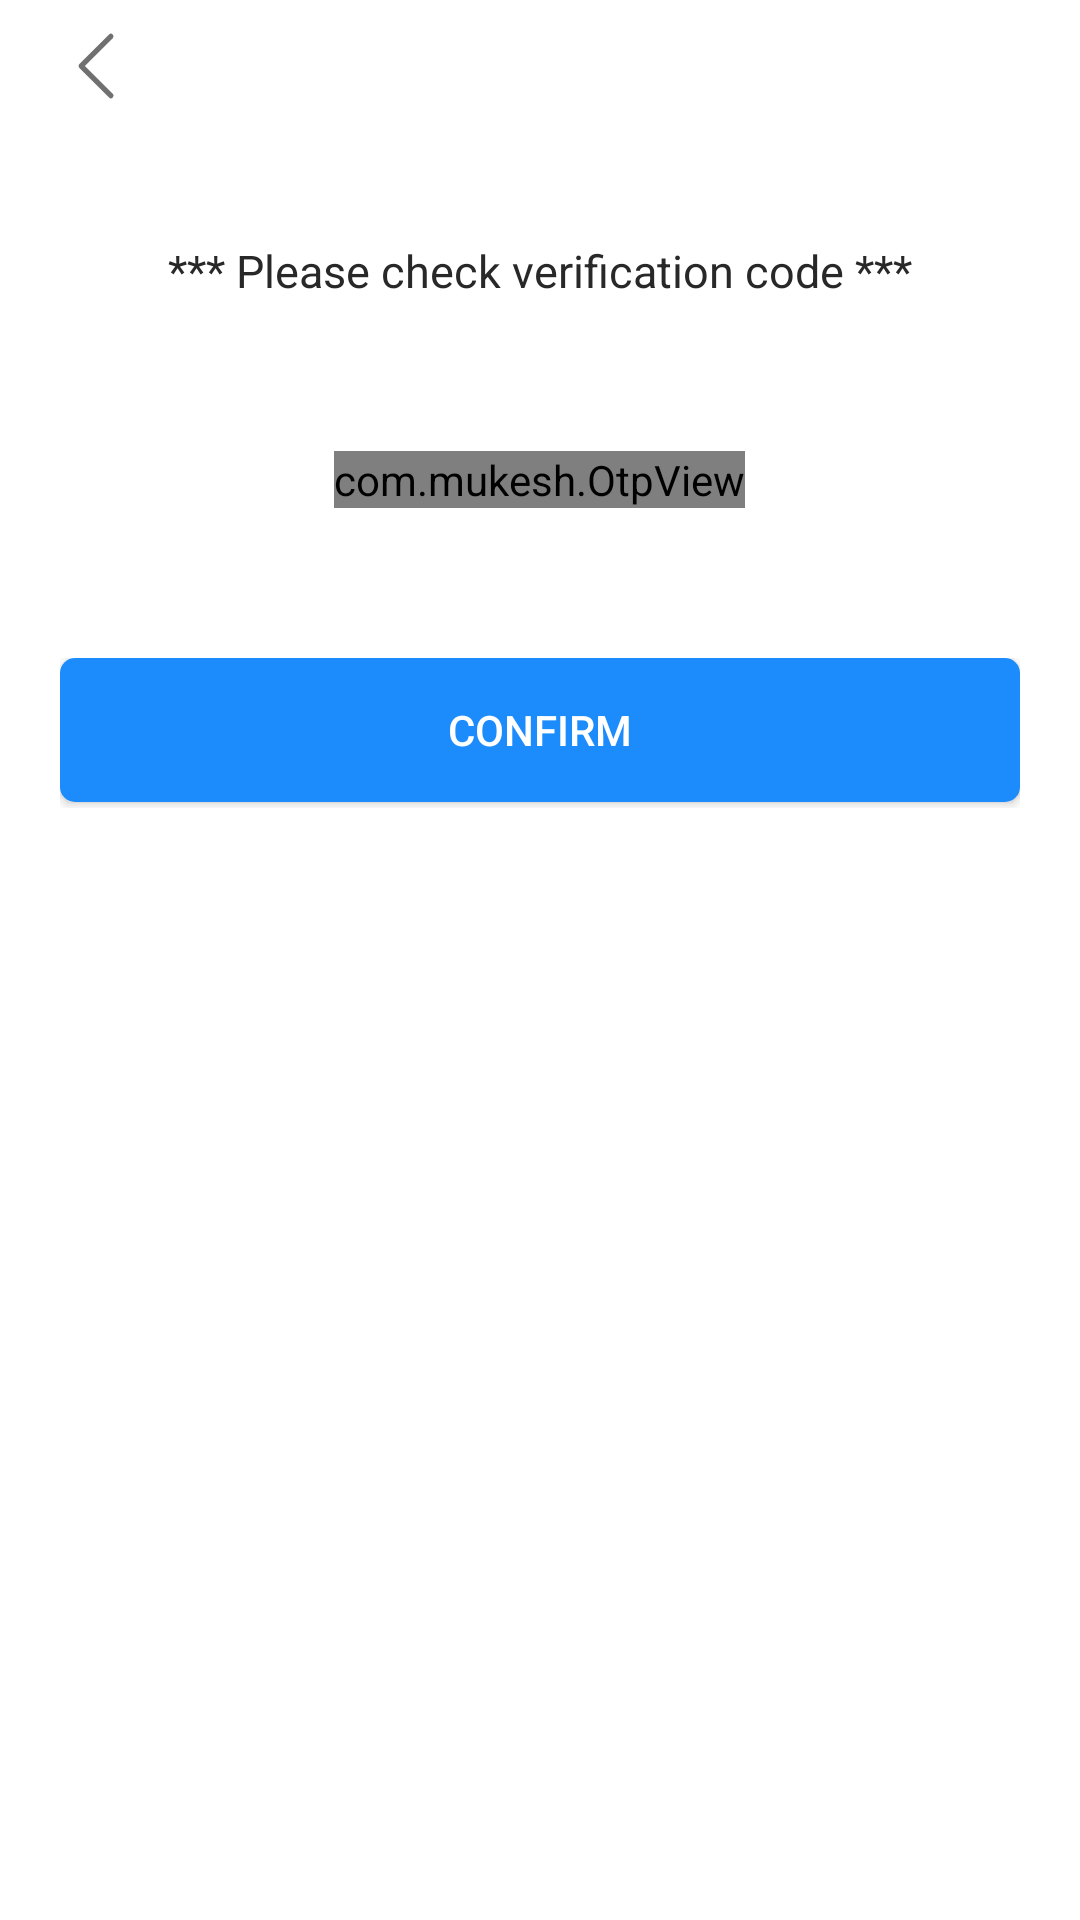

Named icons in this screenshot (1080 × 1920) and their bounding boxes, [x1,y1,x2,y2]:
back: [78,33,114,99]
